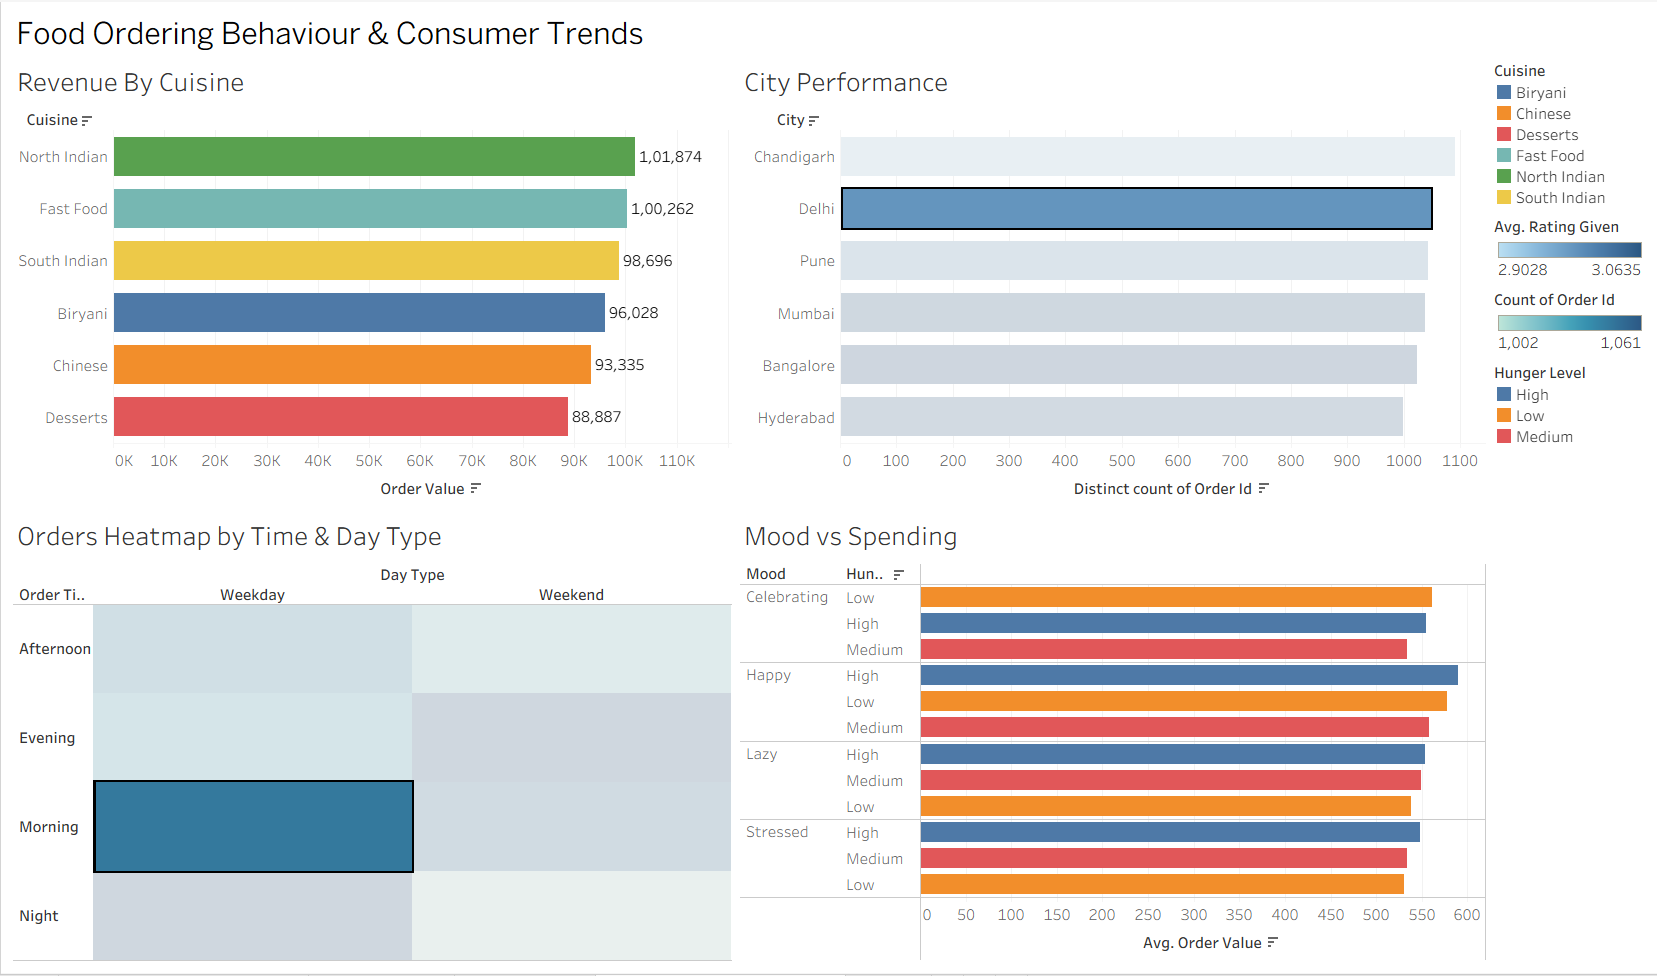

The page's visual inventory and layout, read from the dashboard file:
{"tool":"tableau","page":{"name":"Consumer Insights Dashboard","canvas":[1000,1000],"units":"permille","ordinal":0},"visuals":[{"type":"title","box":[4.8,8.2,990.3,47.4]},{"type":"worksheet","title":"Revenue By Cuisine","mark":"Automatic","rows":["cuisine"],"cols":["order_value"],"box":[4.8,55.6,438.7,468]},{"type":"worksheet","title":"City Performance","mark":"Automatic","rows":["city"],"cols":["order_id"],"box":[443.6,55.6,455.1,468]},{"type":"legend","title":"Revenue By Cuisine","param":"[federated.0v583si1q6xg4q17wfnia03r80q6].[none:cuisine:nk]","box":[898.6,55.6,96.6,160.7]},{"type":"legend","title":"City Performance","param":"[federated.0v583si1q6xg4q17wfnia03r80q6].[avg:rating_given:qk]","box":[898.6,216.3,96.6,75.2]},{"type":"legend","title":"Orders Heatmap by Time & Day Type","param":"[federated.0v583si1q6xg4q17wfnia03r80q6].[cnt:order_id:qk]","box":[898.6,291.4,96.6,75.2]},{"type":"legend","title":"Mood vs Spending","param":"[federated.0v583si1q6xg4q17wfnia03r80q6].[none:hunger_level:nk]","box":[898.6,366.6,96.6,95.8]},{"type":"worksheet","title":"Orders Heatmap by Time & Day Type","mark":"Automatic","rows":["order_time"],"cols":["day_type"],"box":[4.8,523.6,438.7,468.1]},{"type":"worksheet","title":"Mood vs Spending","mark":"Bar","rows":["mood","hunger_level"],"cols":["order_value"],"box":[443.6,523.6,455.1,468.1]}]}

Visuals, with their boxes on the dashboard's canvas, which has no fixed pixel size, in thousandths of its width and height (x1, y1, x2, y2). These are canvas units, not pixel positions in the 1657x976 screenshot, which may show the page scaled, cropped or inside an application window:
title: {"left": 5, "top": 8, "right": 995, "bottom": 56}
"Revenue By Cuisine" worksheet: {"left": 5, "top": 56, "right": 444, "bottom": 524}
"City Performance" worksheet: {"left": 444, "top": 56, "right": 899, "bottom": 524}
"Revenue By Cuisine" legend: {"left": 899, "top": 56, "right": 995, "bottom": 216}
"City Performance" legend: {"left": 899, "top": 216, "right": 995, "bottom": 292}
"Orders Heatmap by Time & Day Type" legend: {"left": 899, "top": 291, "right": 995, "bottom": 367}
"Mood vs Spending" legend: {"left": 899, "top": 367, "right": 995, "bottom": 462}
"Orders Heatmap by Time & Day Type" worksheet: {"left": 5, "top": 524, "right": 444, "bottom": 992}
"Mood vs Spending" worksheet (Bar marks): {"left": 444, "top": 524, "right": 899, "bottom": 992}
